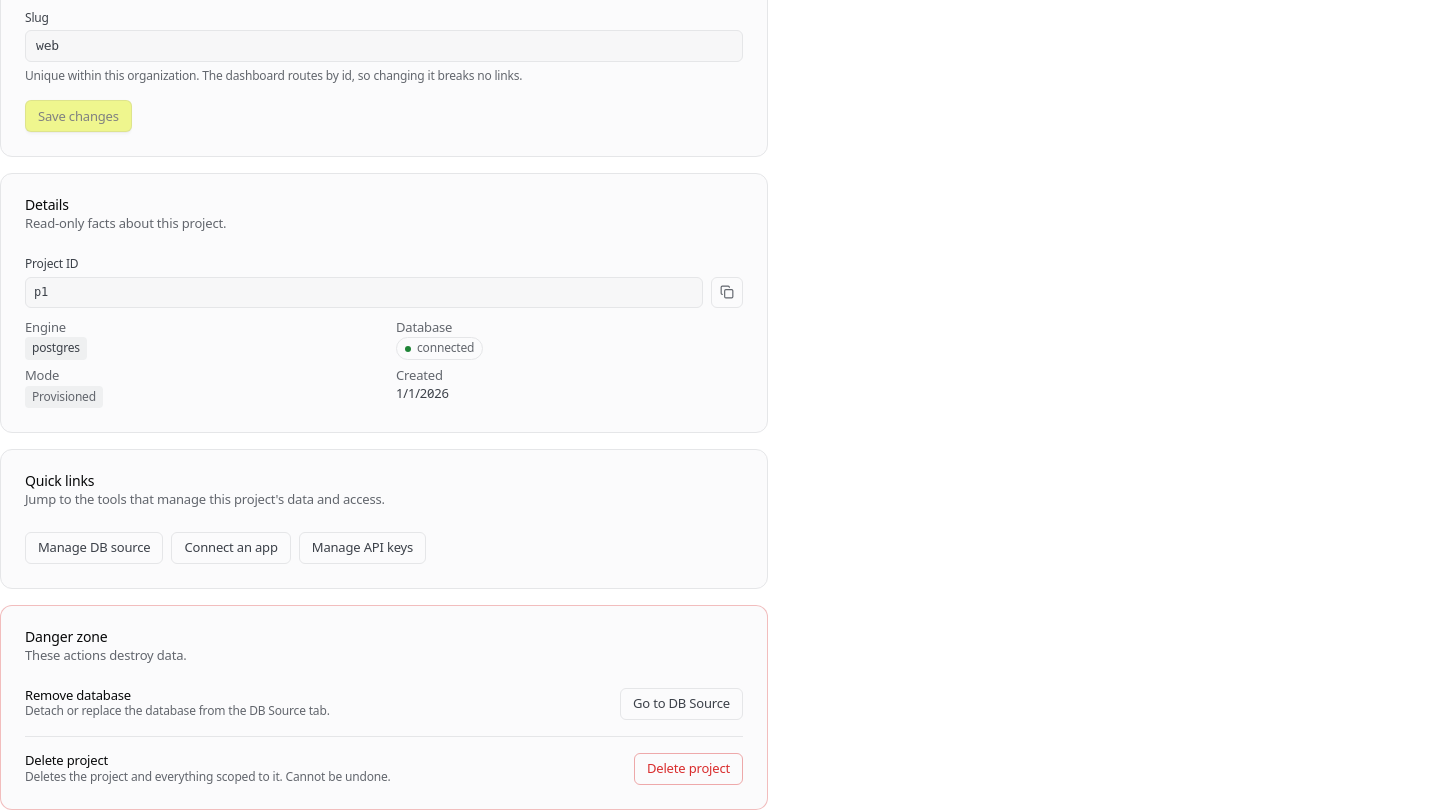
it: ProjectSettingsPanel › warns that a provisioned database is unrecoverable
The image size is (1440, 810).
(page scrolled)
Click the button "Delete project". click: (688, 769)
box: [634, 753, 743, 785]
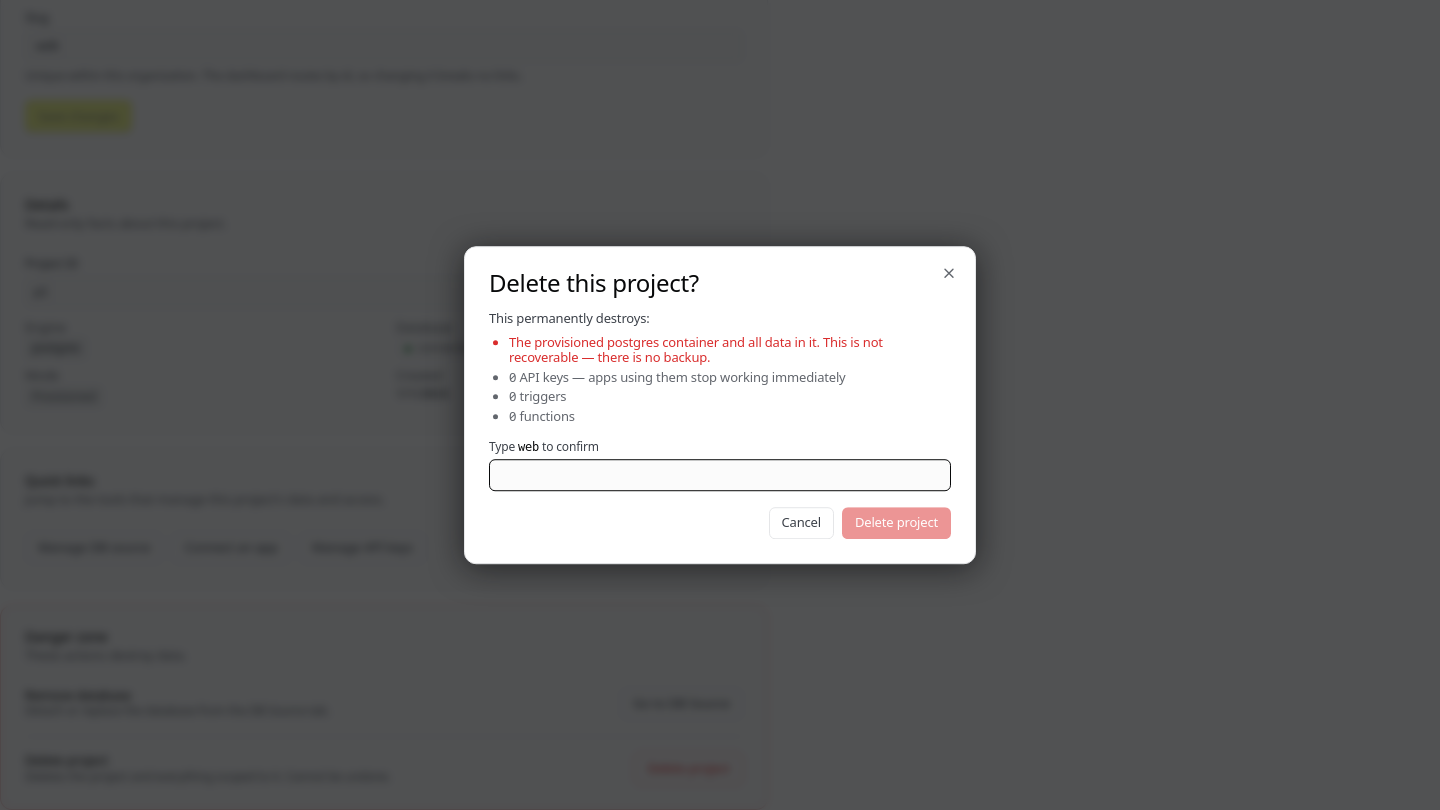
Now the list item that starts with "The provisioned" is shown, box [509, 333, 883, 366]
